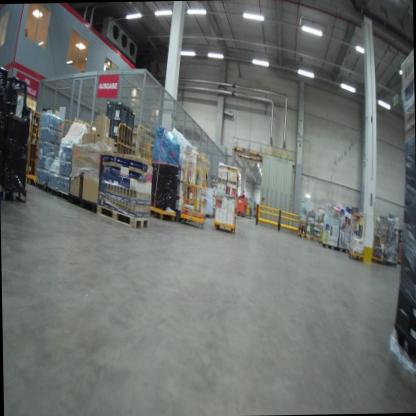pallet: (94, 200, 150, 231), (0, 181, 27, 201)
pallet_truck: (231, 188, 249, 220)
